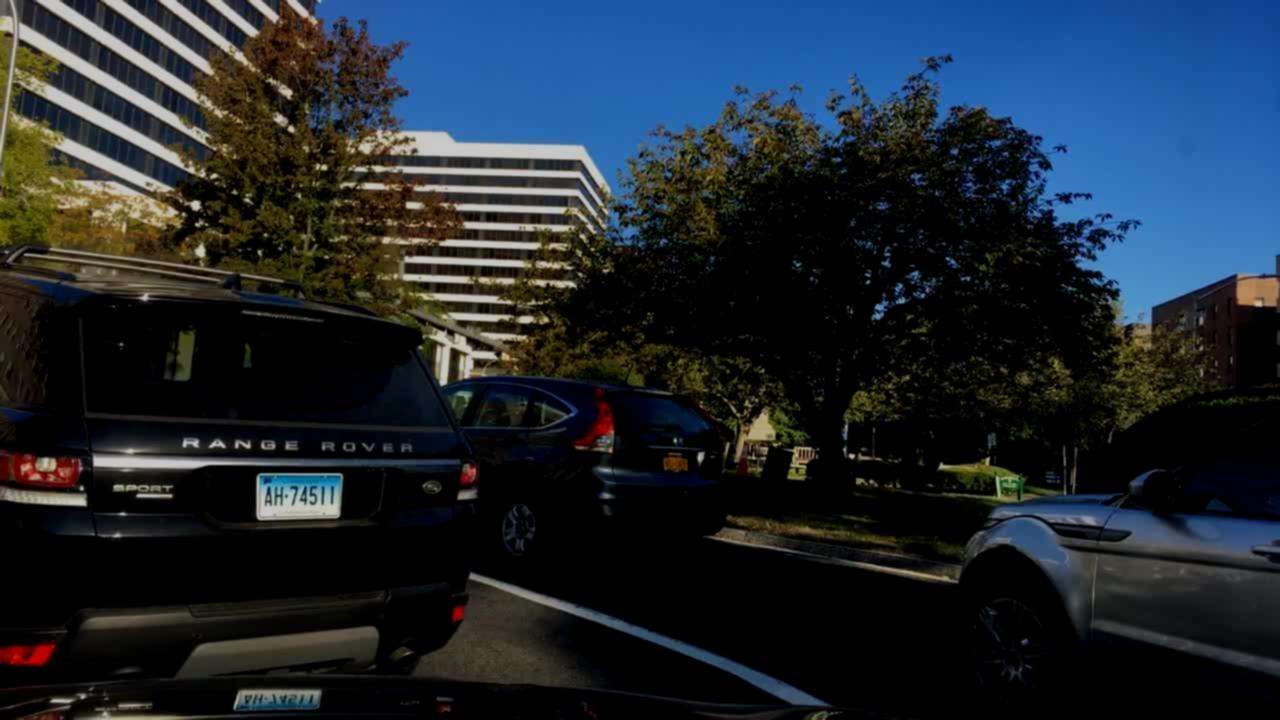Honda: (671, 433, 687, 452)
range rover: (175, 427, 424, 463)
